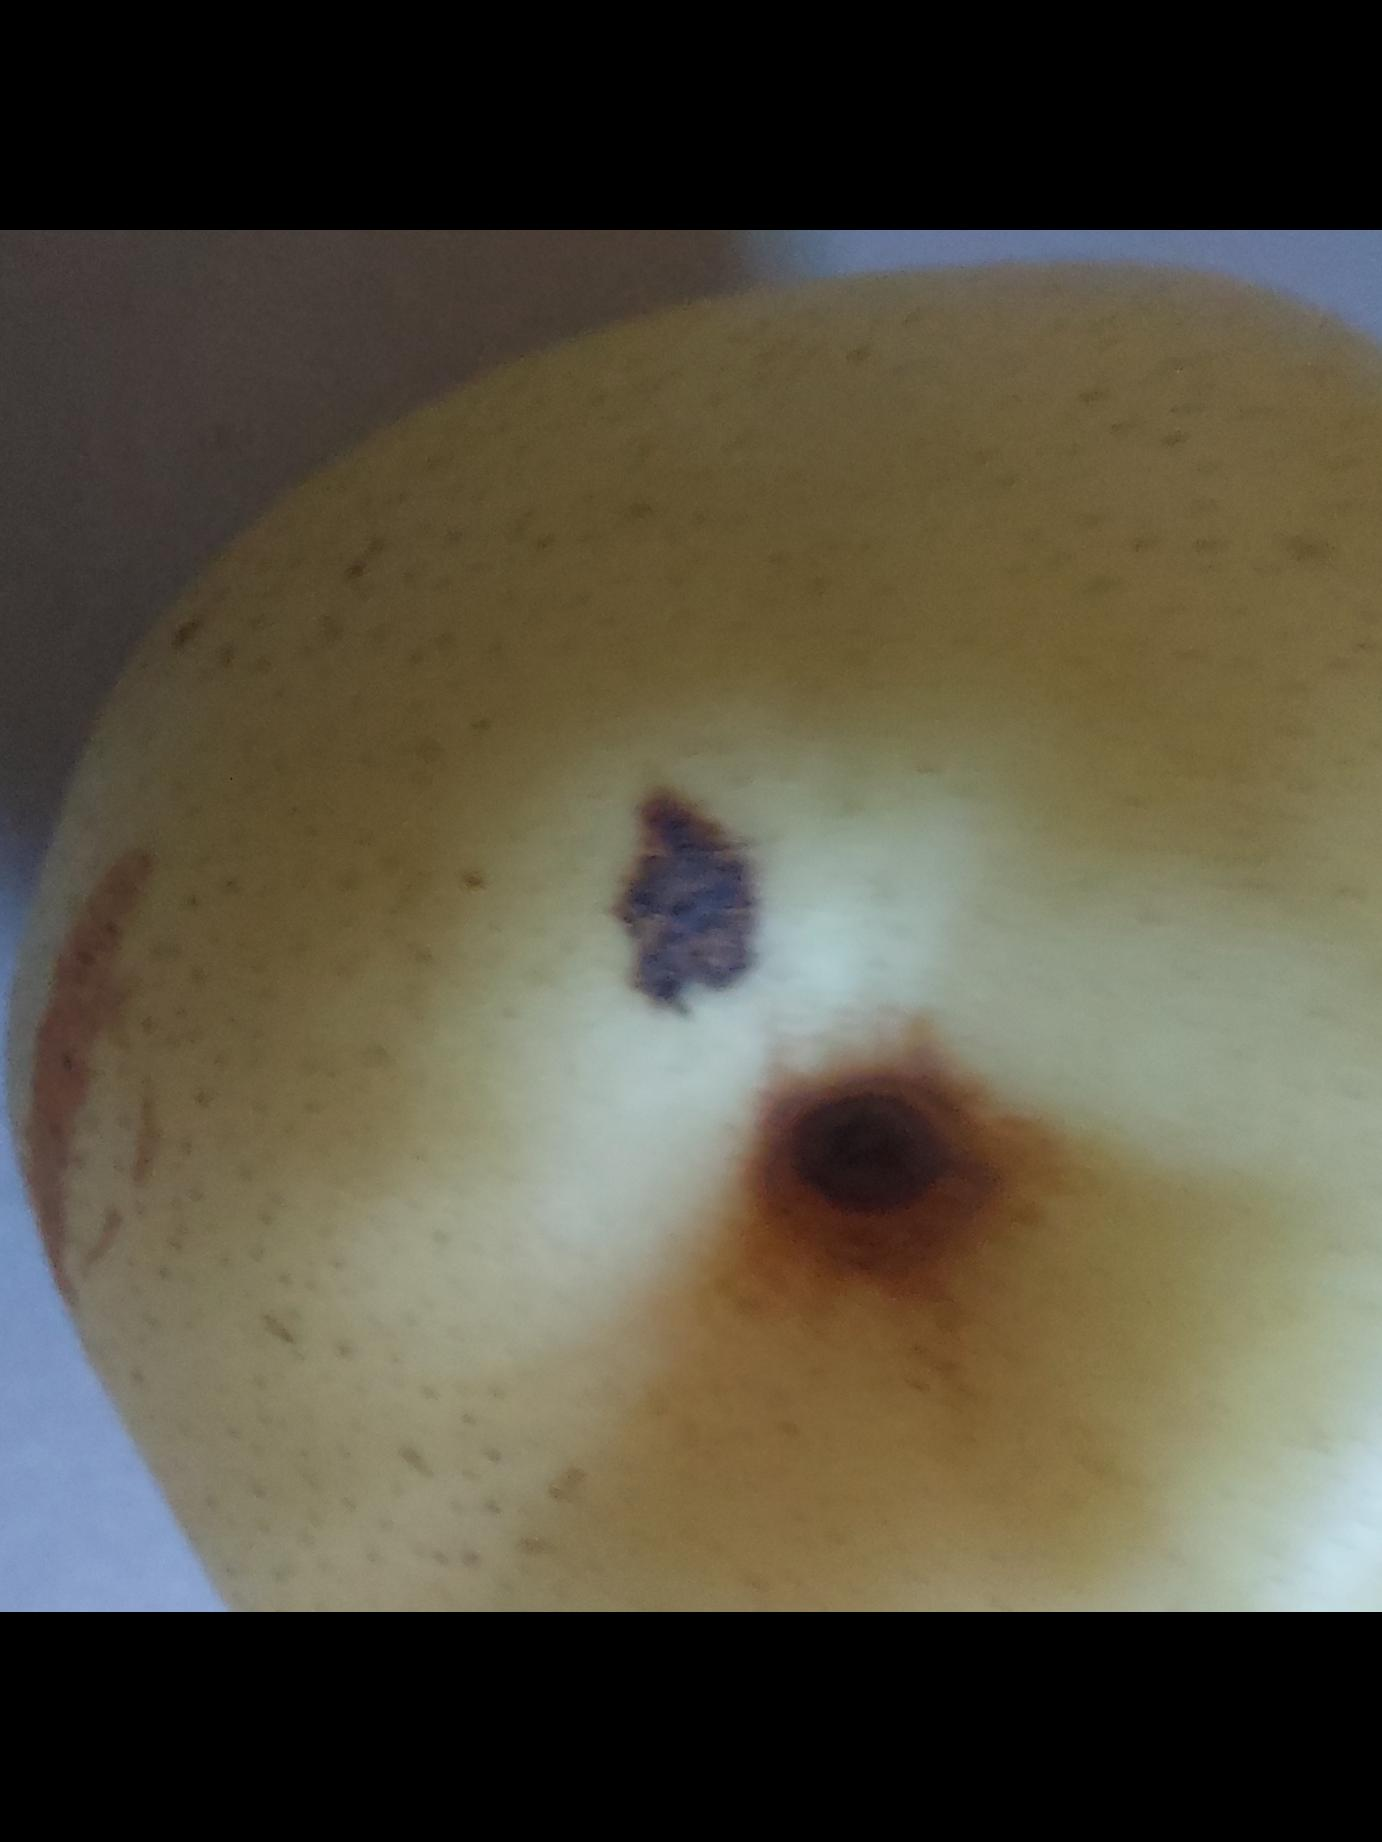Good Pear: (0, 266, 1382, 1613)
